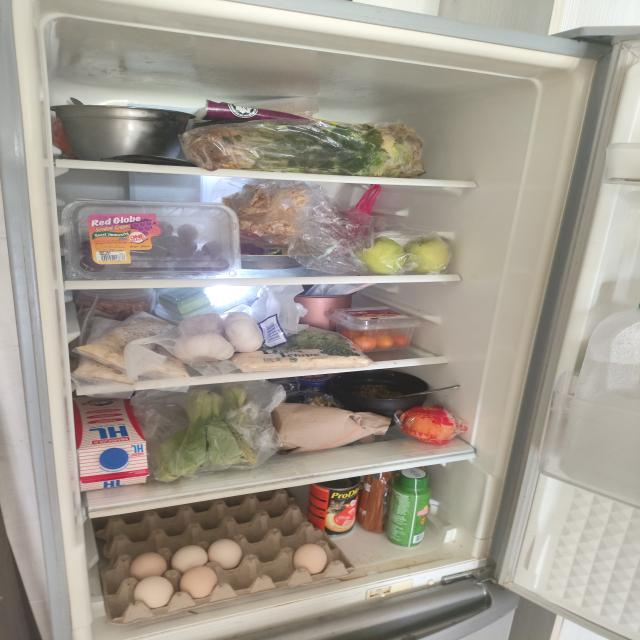apple: (354, 237, 452, 276)
egg: (93, 489, 356, 624)
garlic: (172, 312, 263, 362)
grape: (79, 221, 230, 272)
leafy_greens: (182, 121, 425, 178)
orange: (402, 406, 457, 444)
pakchoy: (153, 383, 259, 483)
tempeh: (71, 310, 191, 386), (230, 348, 372, 373)
